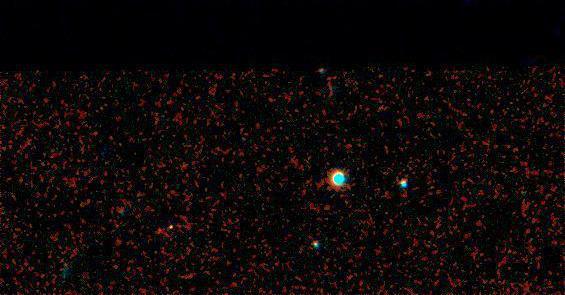star: (162, 208, 192, 238)
